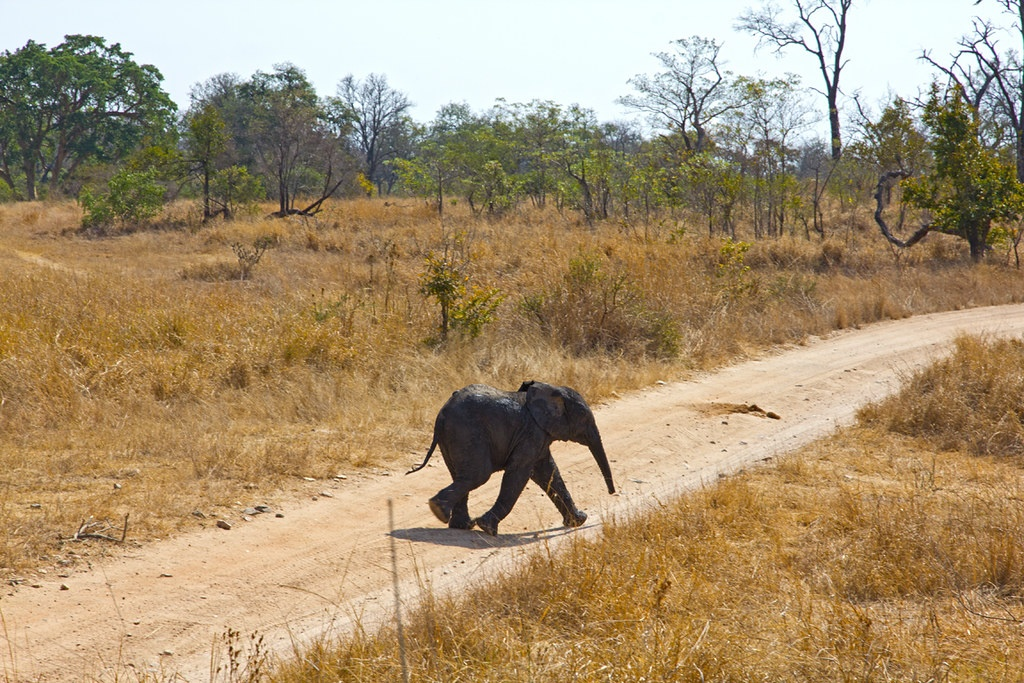elephant: (408, 377, 617, 536)
